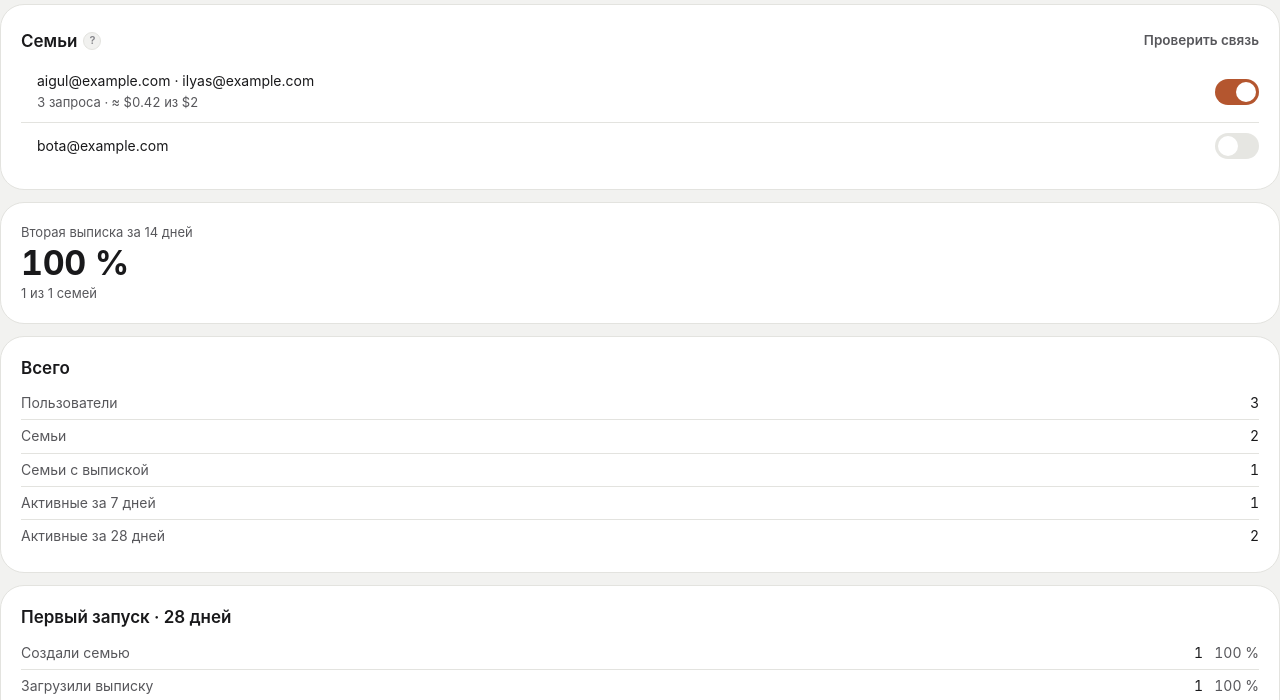
Test case: AI-04: админка — семьи и ИИ › ошибка PUT — тумблер возвращается и строка alert
Click the switch named "ИИ: aigul@example.com, ilyas@example.com": (1237, 92) [1215, 79, 1259, 105]
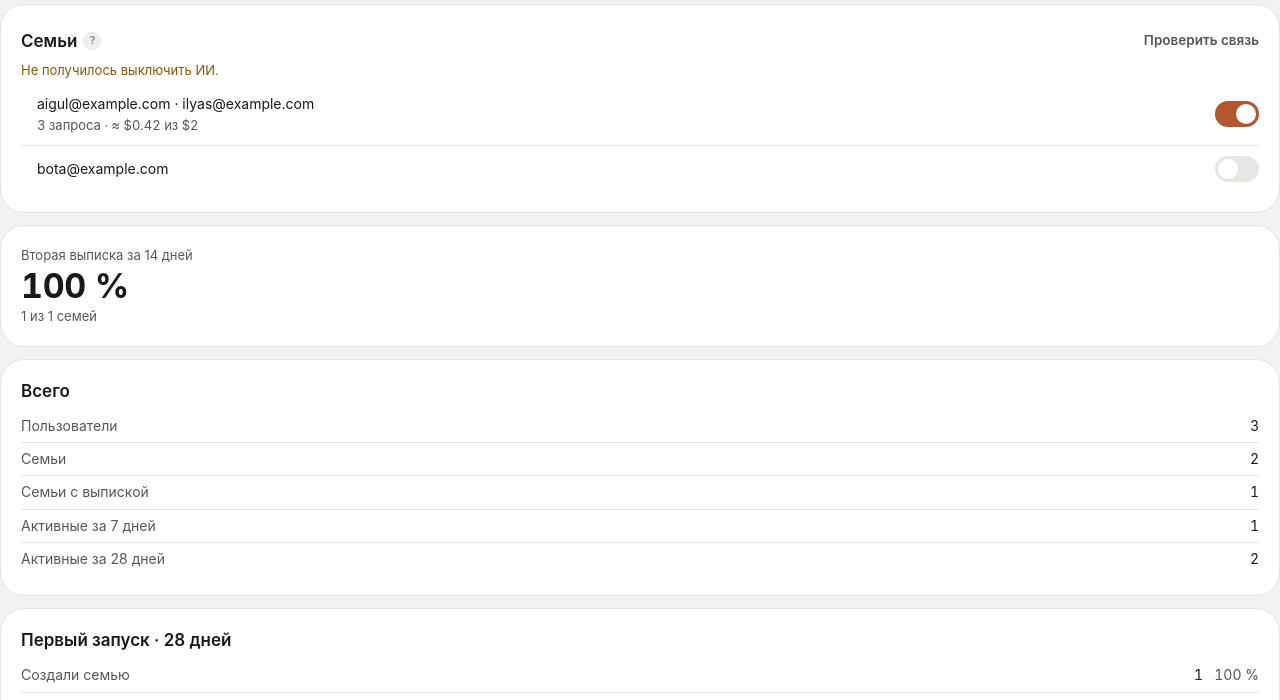
Check: the message "Не получилось выключить ИИ." is shown, box [21, 62, 219, 78]
